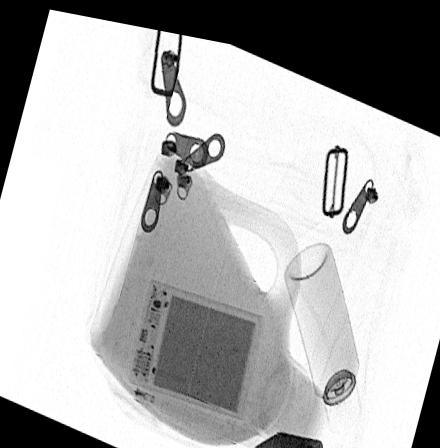Lighter: (252, 420, 322, 448)
Powerbank: (128, 273, 261, 411)
Sprayer: (282, 228, 360, 418)
